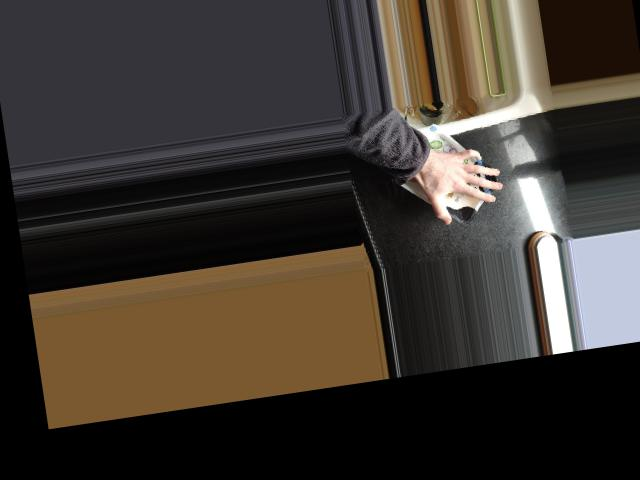cheese: (384, 111, 506, 234)
